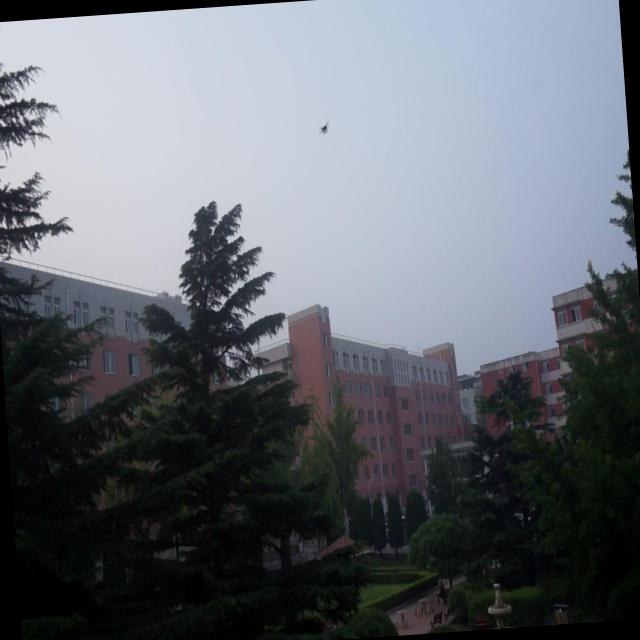drone: (317, 119, 332, 137)
